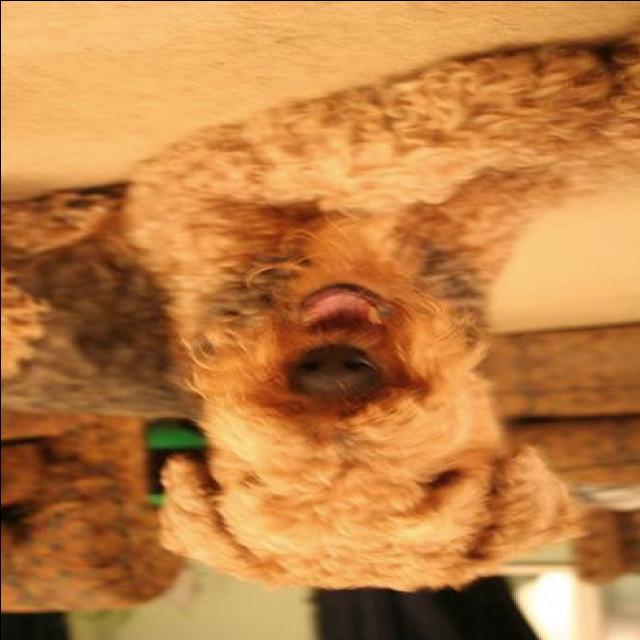airedale: (0, 44, 636, 592)
